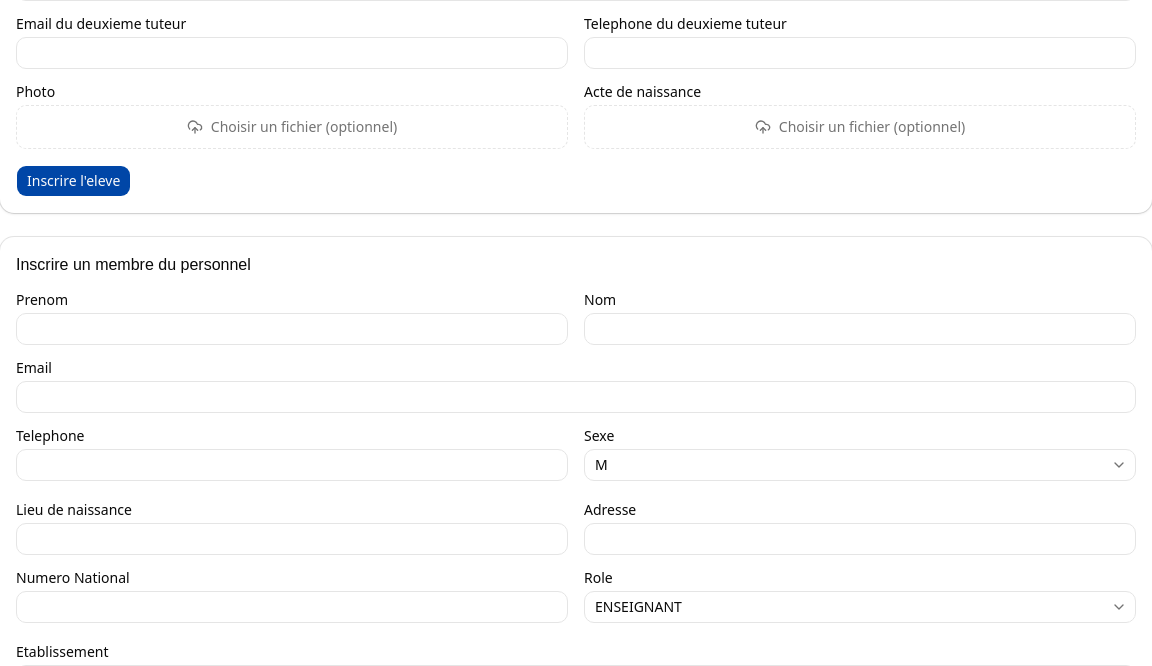
Scenario: RegistrationPage › inscrit un membre du personnel avec le role choisi
The width and height of the screenshot is (1152, 666).
(page scrolled)
In the field labelled "Prenom": [292, 329] box [16,313,568,345], type "Alice"
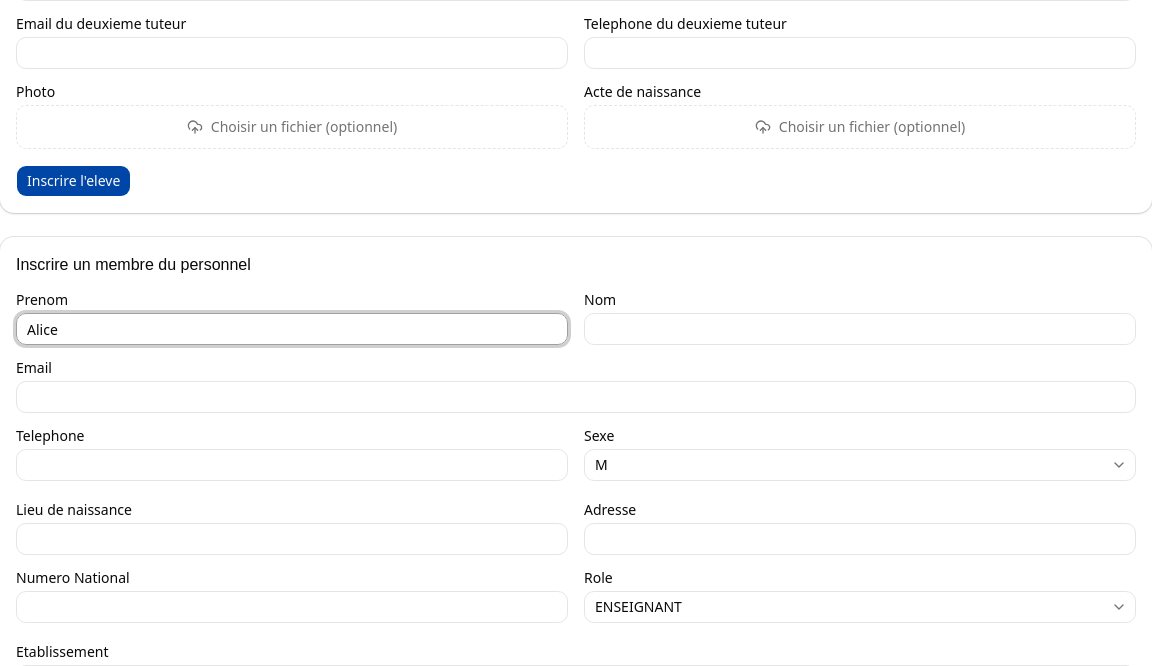
In the field labelled "Nom": [860, 329] box [584,313,1136,345], type "Martin"
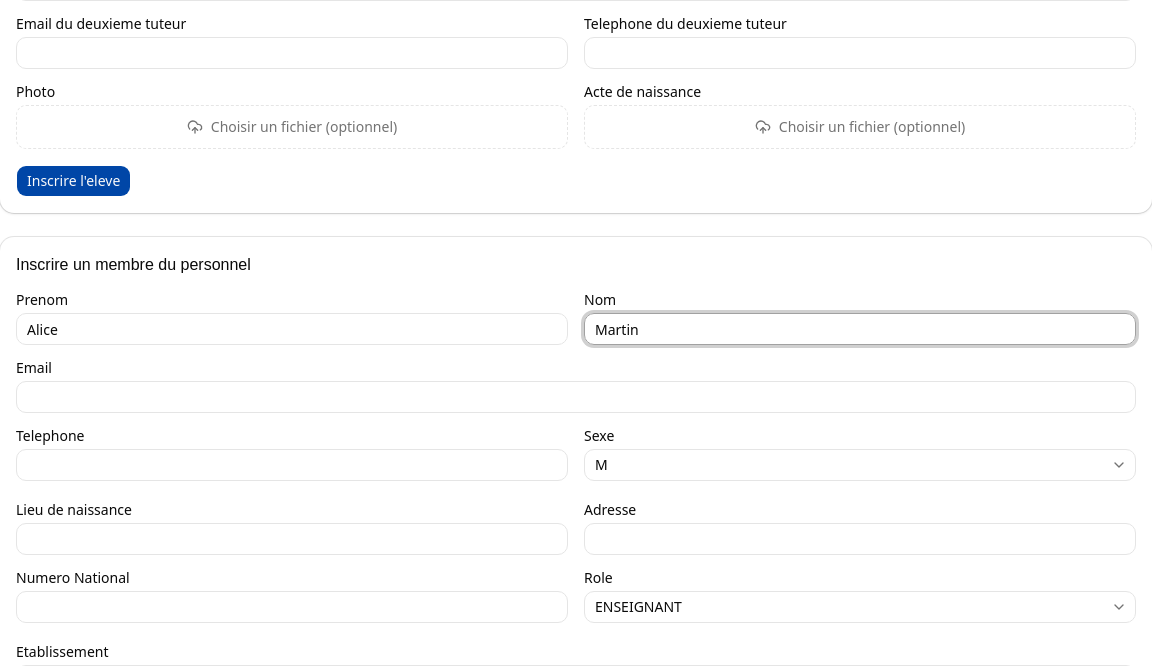
In the field labelled "Email": [576, 397] box [16,381,1136,413], type "alice@example.cm"
(page scrolled)
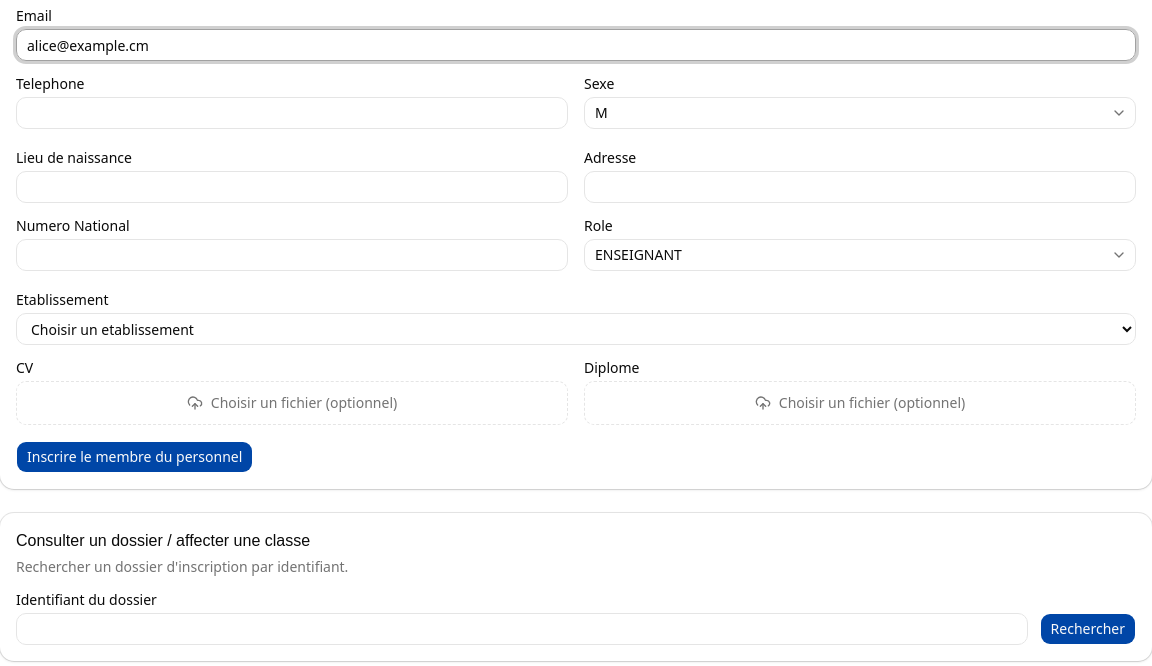
Select "Ecole Centrale" in the dropdown with id "staffEstablishmentId": [576, 329] box [16,313,1136,345]
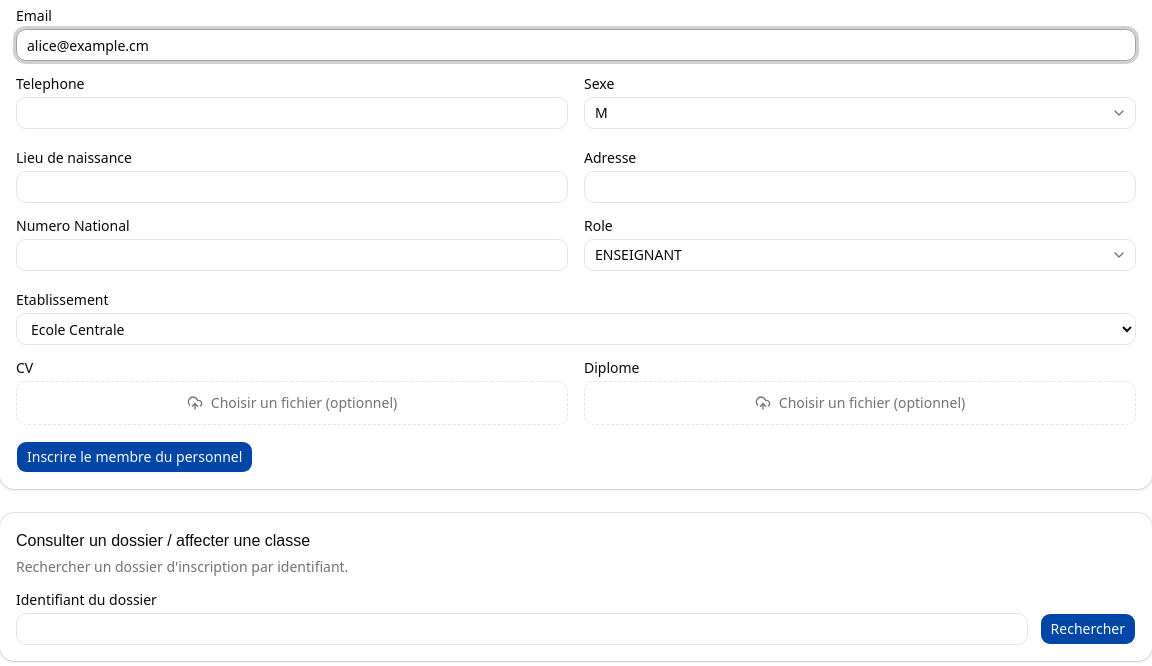
Click the button "Inscrire le membre du personnel": [135, 457] box [16,441,253,473]
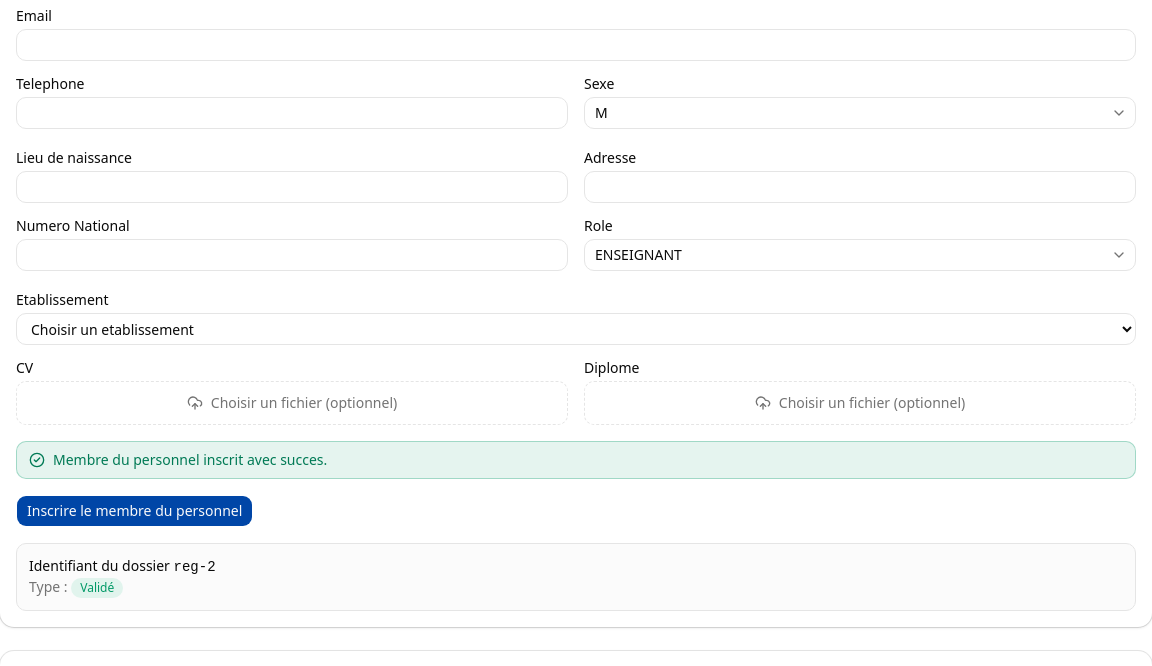
Expected: the text "ENSEIGNANT" is shown, [595,245,682,264]
Result: the text "Membre du personnel inscrit avec succes." is shown at [53,450,327,470]
